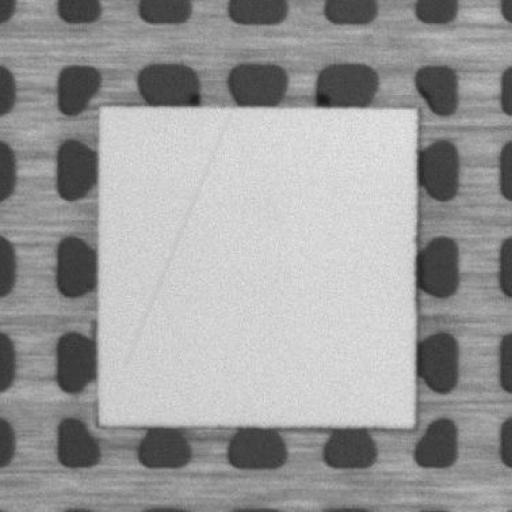DIE_CRACK: (125, 112, 229, 362)
